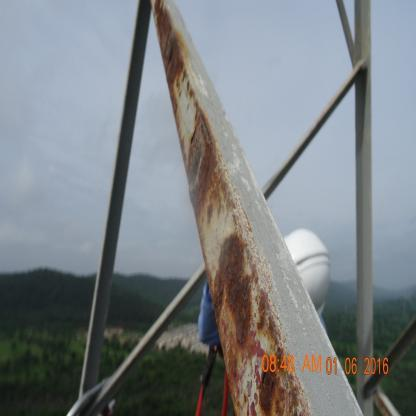rust: (151, 0, 311, 415)
